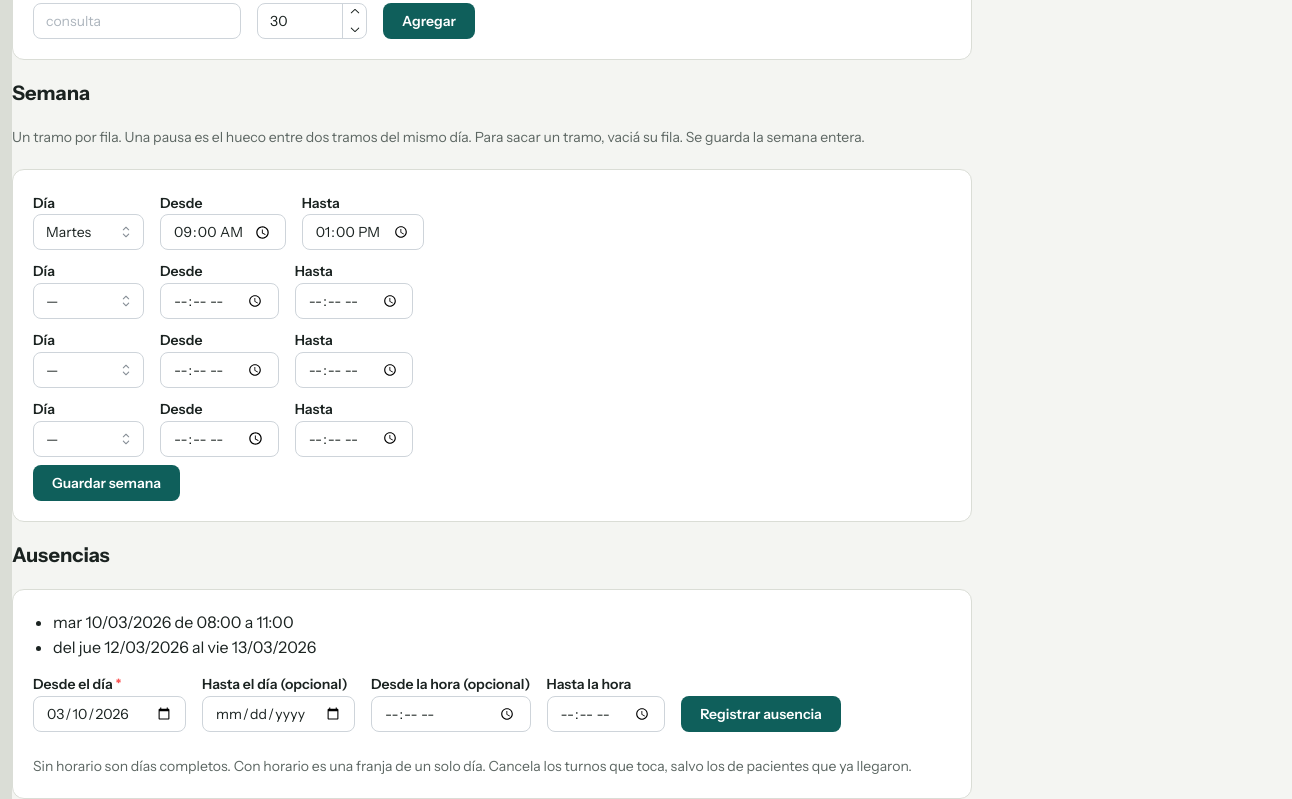
Test: a practitioner's set-up › records part of a day off, saying what it cancelled and who arrived already
(page scrolled)
Type "11:00" into the time field labelled "Desde la hora (opcional)" at (451, 714), box [371,696,530,732]
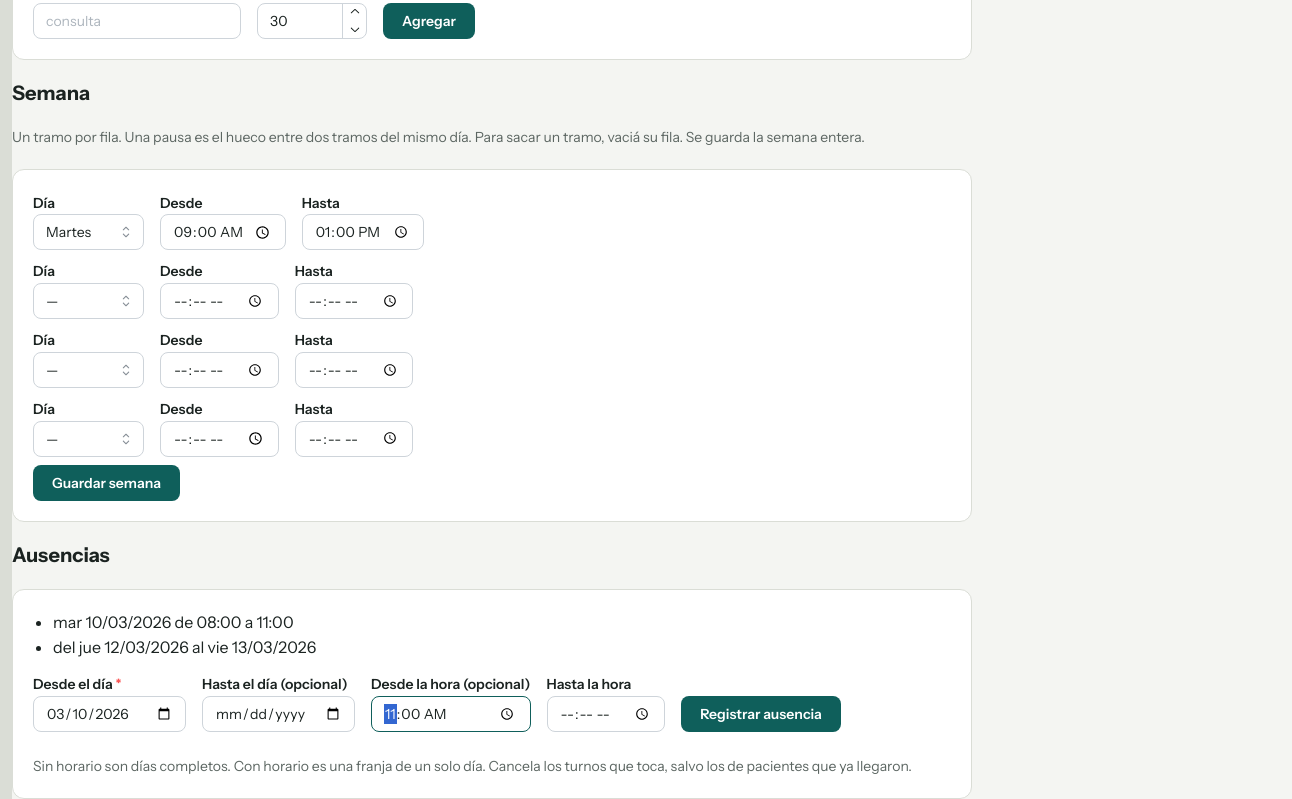
Type "13:00" into the time field labelled "Hasta la hora" at (606, 714), box [546,696,665,732]
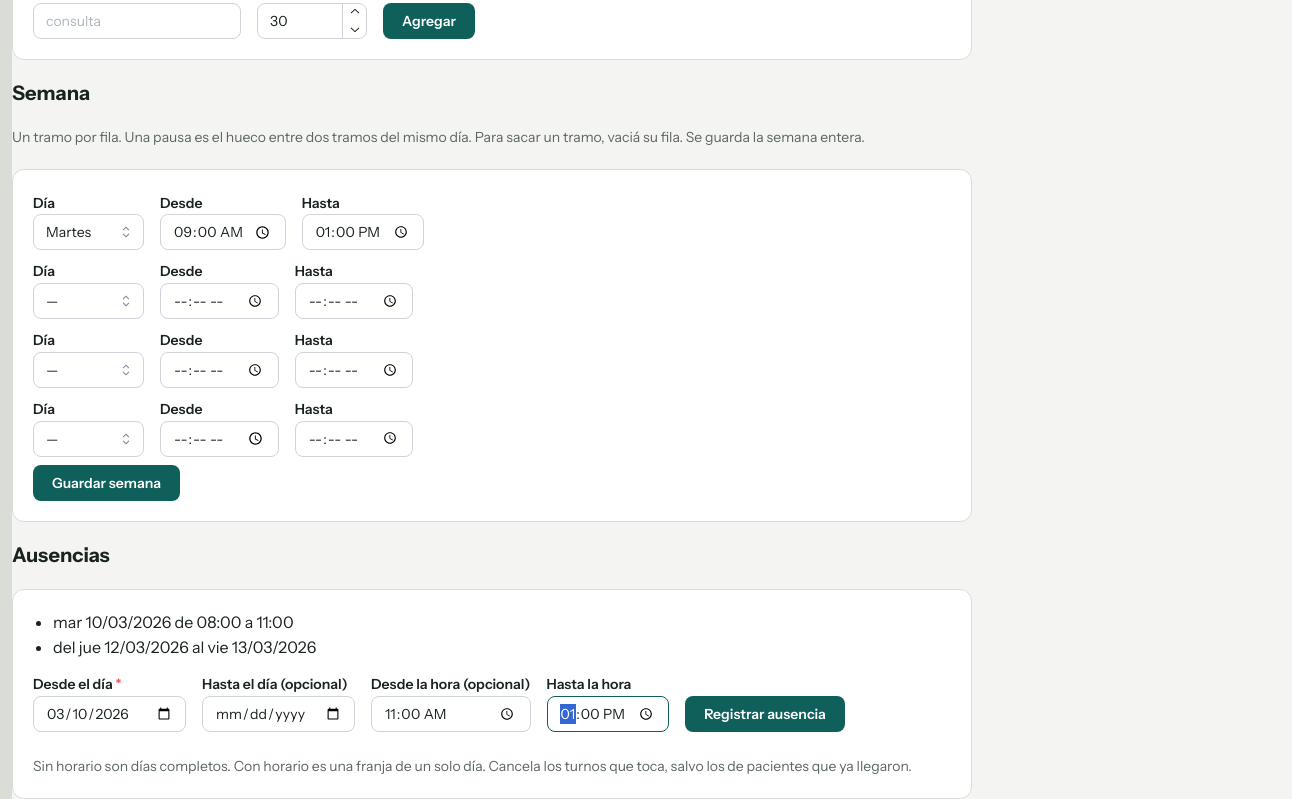
Click the button "Registrar ausencia" at (765, 714), box [685,696,845,732]
(page scrolled)
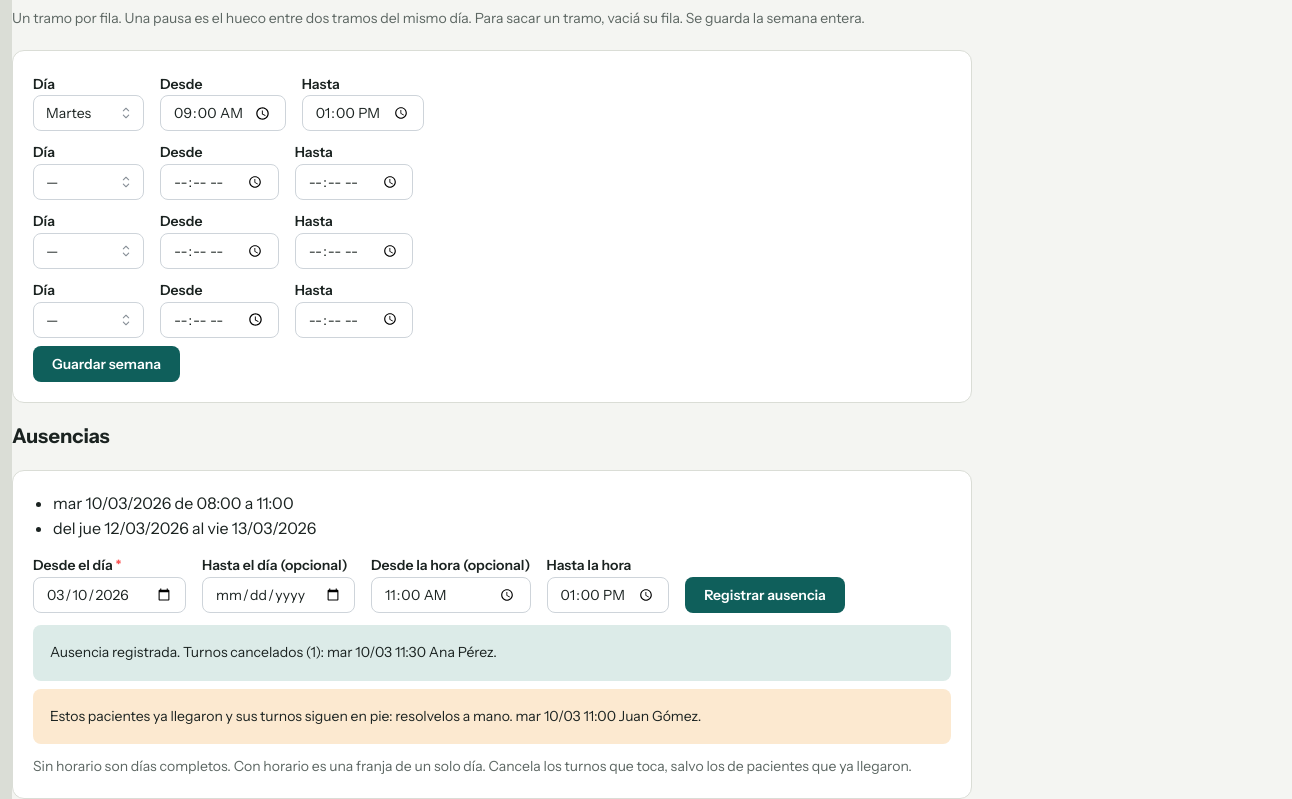
Check: the message "Ausencia registrada. Turnos cancelados (1): mar 10/03 11:30 Ana Pérez." is shown, box [33,625,951,681]
Check: the 2nd message shows "resolvelos a mano. mar 10/03 11:00 Juan Gómez.", box [50,707,701,725]
